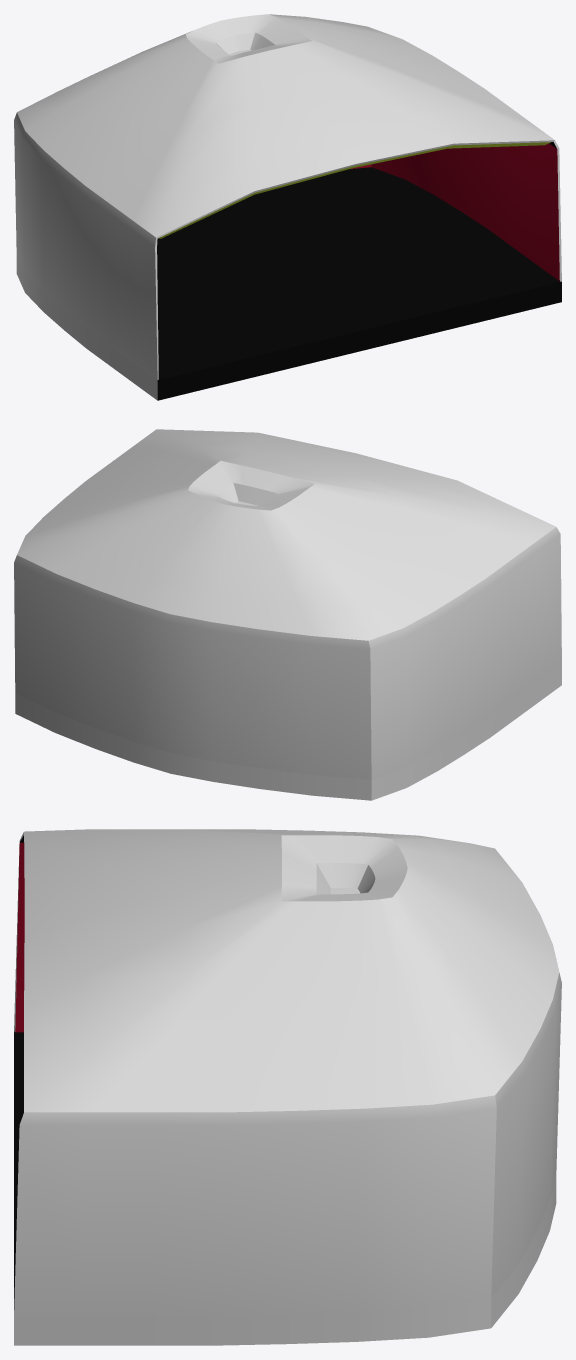
The model's file is roomfollow 1.fbx.
3 views of the same model, one above another, from view 1: azimuth 30°, elevation 25°; view 2: azimuth 150°, elevation 25°; view 3: azimuth 270°, elevation 25° (orthographic). The views are drawn at different scales.
Parts seen in each view (by area): view 1: Room; view 2: Room; view 3: Room.
Boxes of the visible parts, x1,y1,x2,y2 form: Room: [14, 14, 561, 400]; Room: [14, 429, 561, 800]; Room: [14, 829, 561, 1345].
Bounding box in the file's own units: 9969 × 5466 × 8100.
